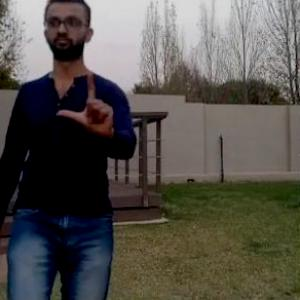land_hand: (61, 70, 125, 146)
